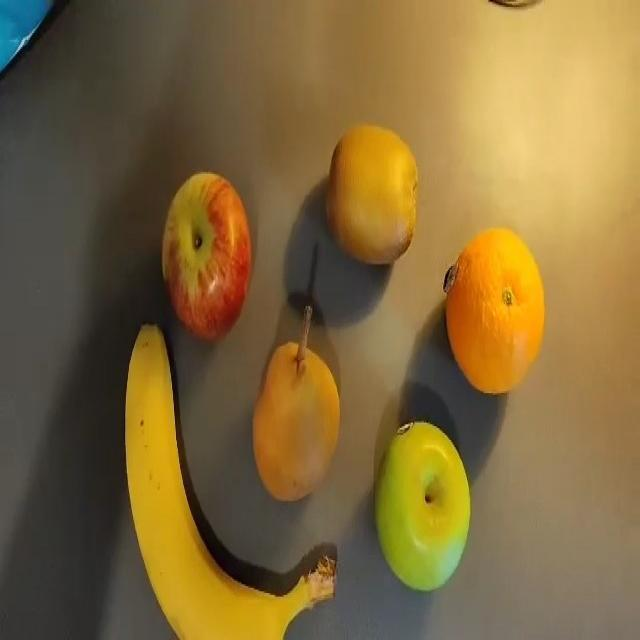Apple: (373, 420, 471, 592), (161, 171, 252, 342)
Banana: (123, 322, 337, 639)
Orange: (442, 226, 545, 395)
